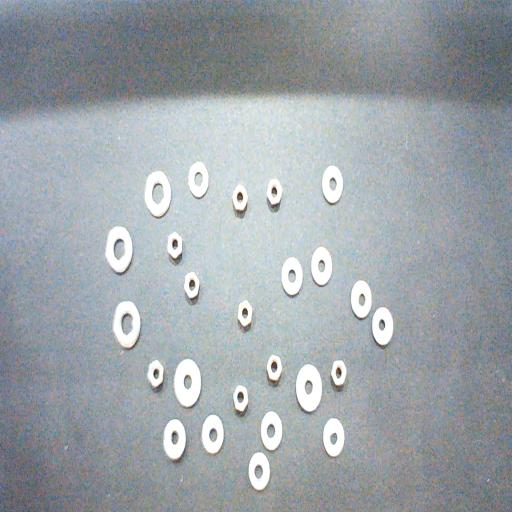nut: (266, 178, 283, 208), (266, 354, 282, 384), (148, 359, 163, 390), (184, 271, 200, 300), (232, 184, 248, 213), (233, 384, 248, 414), (331, 359, 347, 387), (238, 299, 252, 329), (168, 232, 182, 262)
washer: (174, 358, 201, 408), (106, 225, 133, 274), (113, 301, 141, 348), (144, 170, 171, 218), (296, 364, 322, 412), (164, 419, 186, 460), (202, 414, 224, 454), (281, 256, 303, 296), (260, 410, 282, 450), (322, 418, 344, 457), (322, 166, 344, 204), (350, 280, 372, 318), (248, 452, 270, 490), (372, 307, 393, 346), (311, 247, 332, 286), (188, 160, 209, 198)
